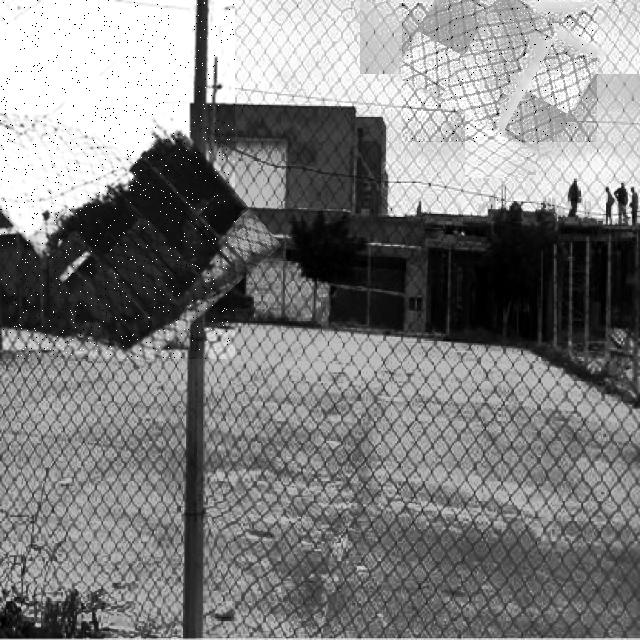anomaly-fence: (0, 0, 235, 359), (402, 0, 597, 142)
